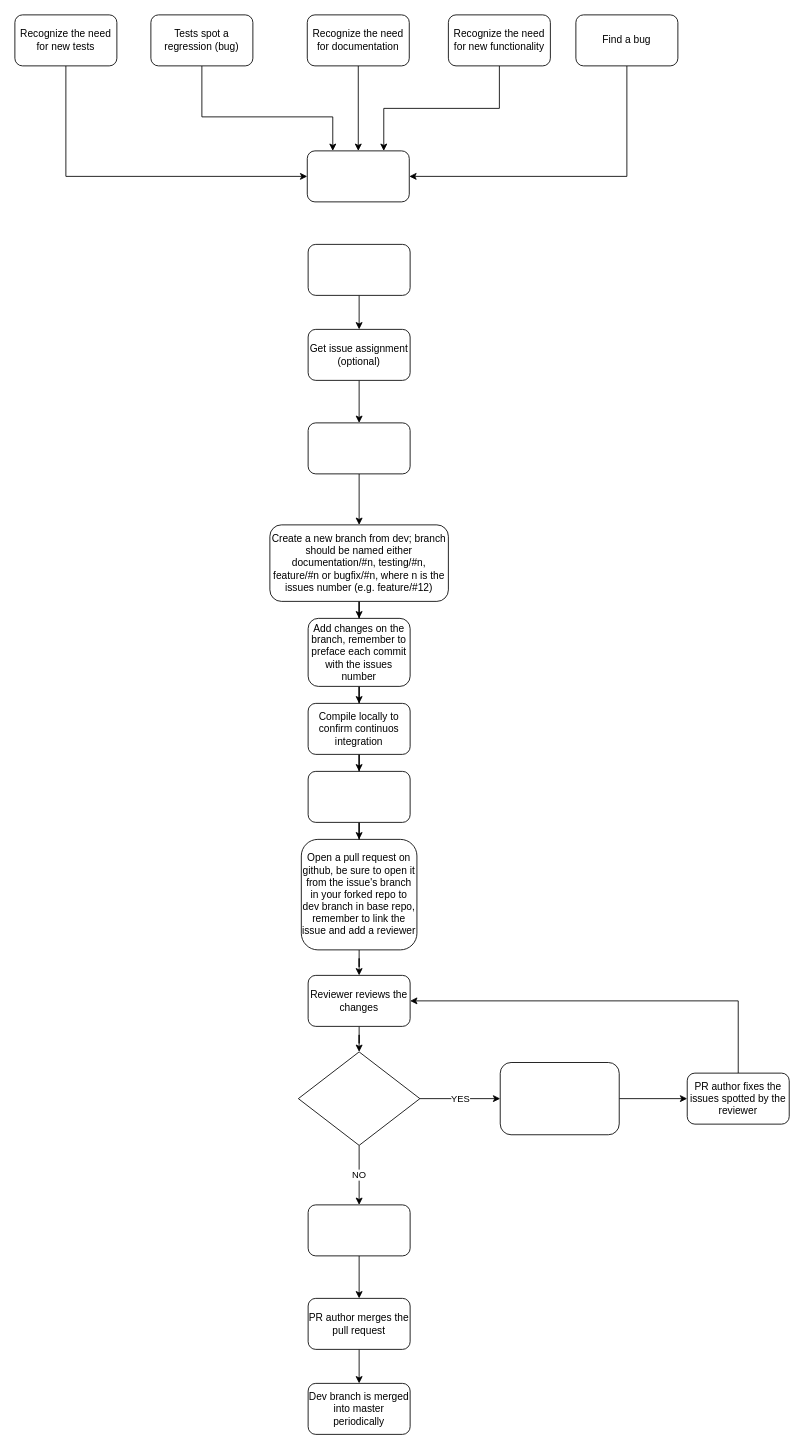
This 804x1449 diagram has some shape labels left out. Here are the shapes that lost their labels. From the top down, the centre of each, then its label:
At pixel 357 176: "Open issue on github".
At pixel 358 269: "Find an issue you can work on and ask for assignment".
At pixel 358 448: "Fork the repository".
At pixel 358 796: "Run the whole test suite".
At pixel 359 1098: "Does Reviewer spot anthing that needs to be done in PR?".
At pixel 559 1098: "Reviewer adds comments explaining what needs to be fixed, marks PR as needs work".
At pixel 358 1230: "Reviewer marks the PR as approved".
